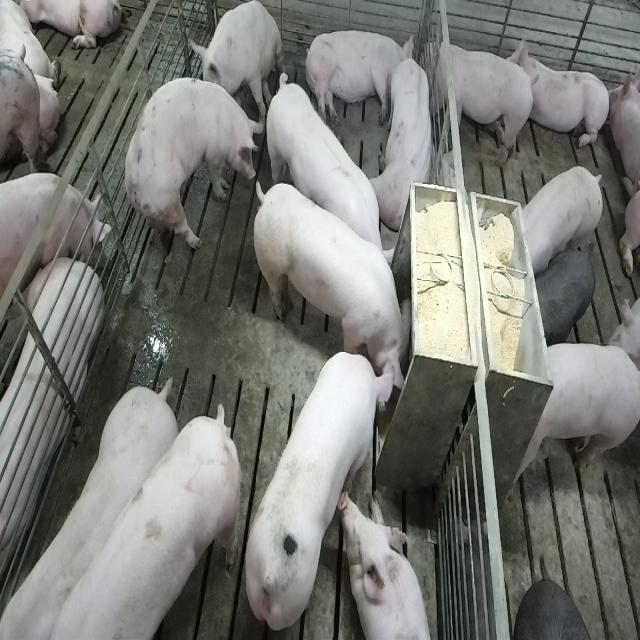Feeding: (240, 348, 403, 633), (256, 176, 420, 395)
Lateral_lying: (0, 255, 101, 608), (303, 28, 414, 127)
Sitting: (188, 0, 282, 121)
Standing: (0, 379, 174, 639), (262, 67, 394, 286), (119, 77, 256, 271), (513, 342, 639, 492), (423, 30, 535, 172), (0, 172, 108, 308), (514, 165, 604, 278), (532, 244, 595, 347)
Sternal_lying: (344, 490, 434, 640), (374, 47, 437, 232), (516, 34, 612, 155)
